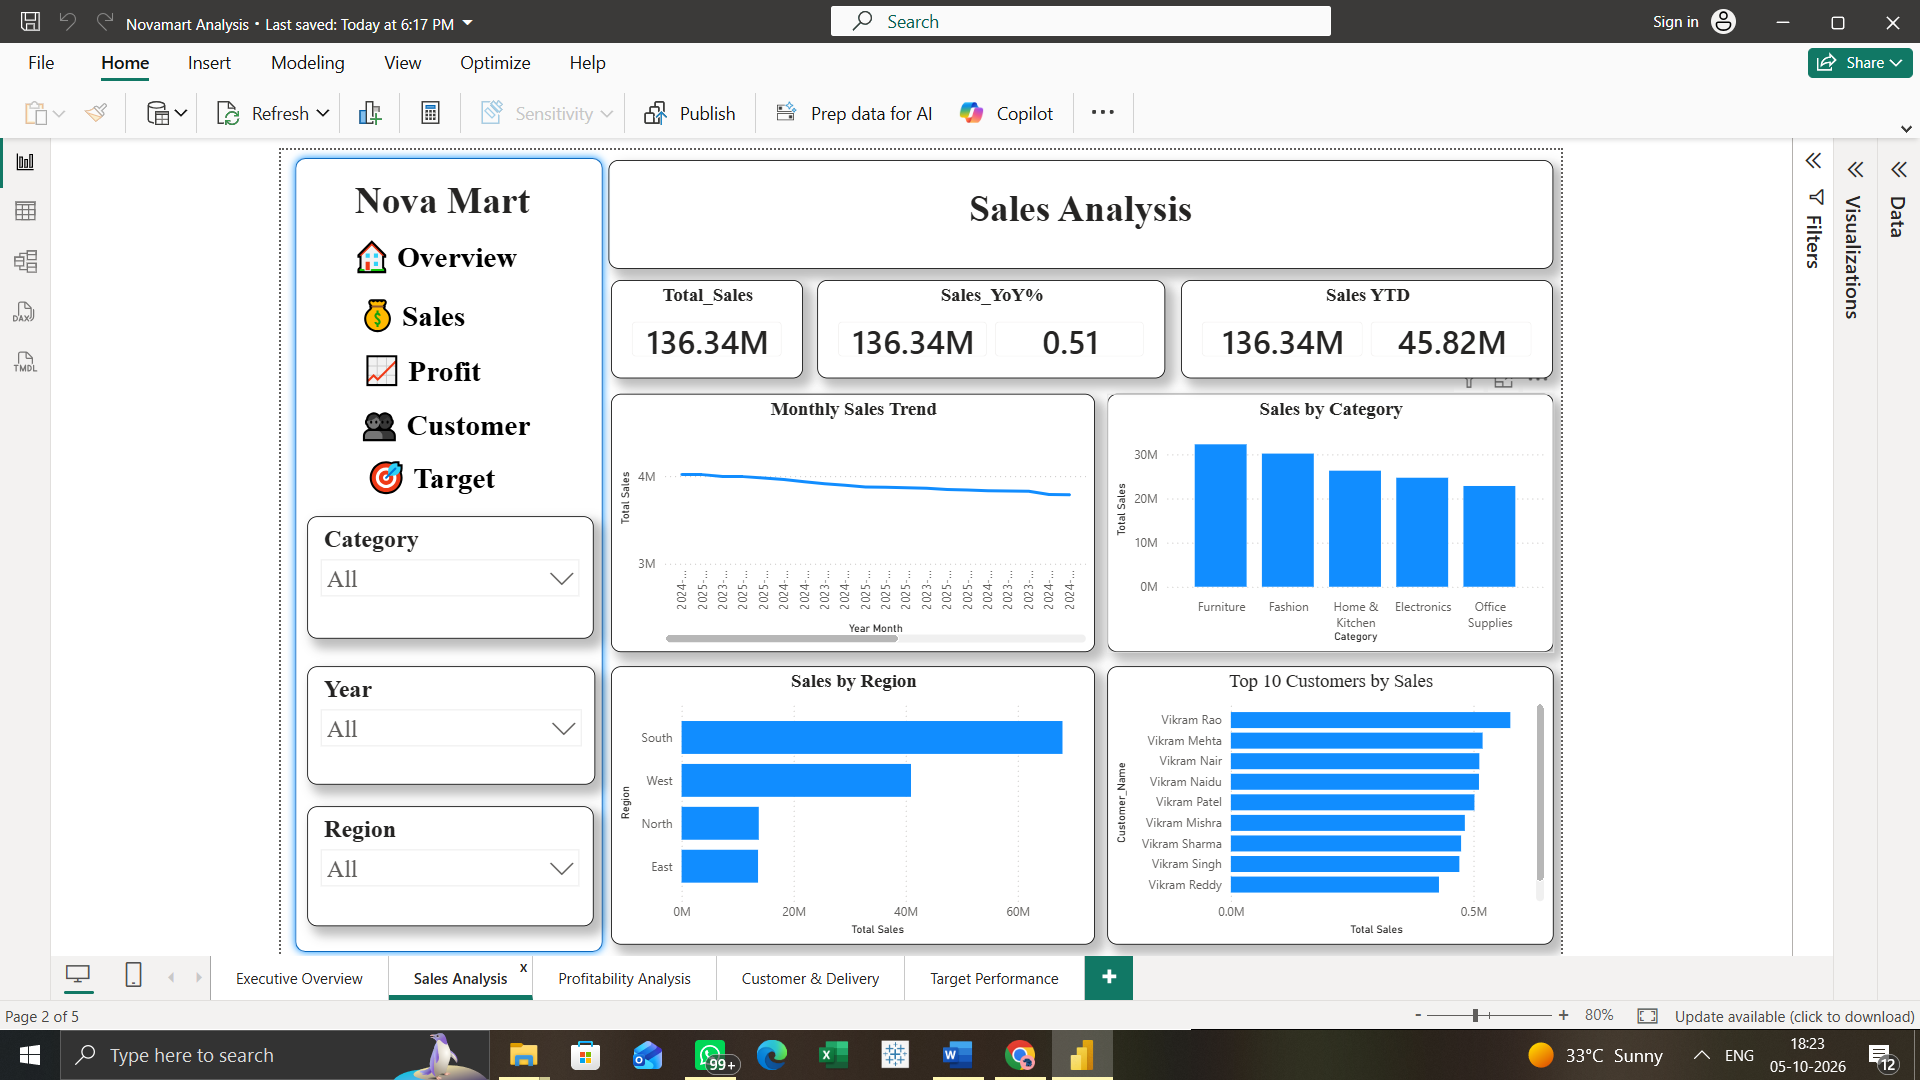

This screenshot's page, from the dashboard's own definition file:
{"tool":"powerbi","page":{"name":"Sales Analysis","canvas":[1280,810],"ordinal":1},"visuals":[{"type":"group","id":"g1","title":"Group 1","box":[6,0,1266,810],"z":0},{"type":"textbox","box":[327,9.5,945,108.6],"z":0,"group":"g1"},{"type":"shape","box":[6,0,323.4,810],"z":1000,"group":"g1"},{"type":"slicer","fields":{"Values":["Products.Category"]},"box":[26,366,286,122],"z":1000},{"type":"textbox","box":[68.3,24.2,201.8,53.7],"z":2000,"group":"g1"},{"type":"slicer","fields":{"Values":["Geography.Region"]},"box":[26,656,286,120],"z":2000},{"type":"actionButton","box":[61,64.5,186.8,79.5],"z":3000,"group":"g1"},{"type":"slicer","fields":{"Values":["DateTable.Year"]},"box":[26,516,288,118],"z":3000},{"type":"actionButton","box":[67.7,130.5,186.8,67.5],"z":4000,"group":"g1"},{"type":"lineChart","title":"Monthly Sales Trend","fields":{"Y":["_Measures.Total Sales"],"Category":["DateTable.Year Month"]},"box":[330,244,484,258],"z":4000},{"type":"actionButton","box":[54.4,183,171.8,72],"z":5000,"group":"g1"},{"type":"clusteredColumnChart","title":"Sales by Category","fields":{"Category":["Products.Category"],"Y":["_Measures.Total Sales"]},"box":[826,244,446,258],"z":5000},{"type":"actionButton","box":[63.3,240,200.2,64.5],"z":6000,"group":"g1"},{"type":"clusteredBarChart","title":"Sales by Region","fields":{"Category":["Geography.Region"],"Y":["_Measures.Total Sales"]},"box":[330,516,484,278],"z":6000},{"type":"cardVisual","title":"Total_Sales","fields":{"Data":["_Measures.Total Sales"]},"box":[330,130,192,98],"z":7000},{"type":"actionButton","box":[73.3,291,151.8,67.5],"z":7000,"group":"g1"},{"type":"cardVisual","title":"Sales_YoY%","fields":{"Data":["_Measures.Total Sales","_Measures.Sales YoY %"]},"box":[536,130,348,98],"z":8000},{"type":"cardVisual","title":"Sales YTD","fields":{"Data":["_Measures.Total Sales","_Measures.Sales YTD"]},"box":[900,130,372,98],"z":9000},{"type":"barChart","title":"Top 10 Customers by Sales","fields":{"Category":["Customers.Customer_Name"],"Y":["_Measures.Total Sales"]},"box":[826,516,446,278],"z":10000}]}

Visuals, with their boxes on the page's 1280x810 design canvas (x1, y1, x2, y2). These are canvas units, not pixel positions in the 1920x1080 screenshot, which may show the page scaled, cropped or inside an application window:
"Group 1" group: [6,0,1272,810]
textbox: [327,10,1272,118]
shape: [6,0,329,810]
slicer - Products.Category: [26,366,312,488]
textbox: [68,24,270,78]
slicer - Geography.Region: [26,656,312,776]
actionButton: [61,64,248,144]
slicer - DateTable.Year: [26,516,314,634]
actionButton: [68,130,254,198]
"Monthly Sales Trend" lineChart: [330,244,814,502]
actionButton: [54,183,226,255]
"Sales by Category" clusteredColumnChart: [826,244,1272,502]
actionButton: [63,240,264,304]
"Sales by Region" clusteredBarChart: [330,516,814,794]
"Total_Sales" cardVisual: [330,130,522,228]
actionButton: [73,291,225,358]
"Sales_YoY%" cardVisual: [536,130,884,228]
"Sales YTD" cardVisual: [900,130,1272,228]
"Top 10 Customers by Sales" barChart: [826,516,1272,794]
